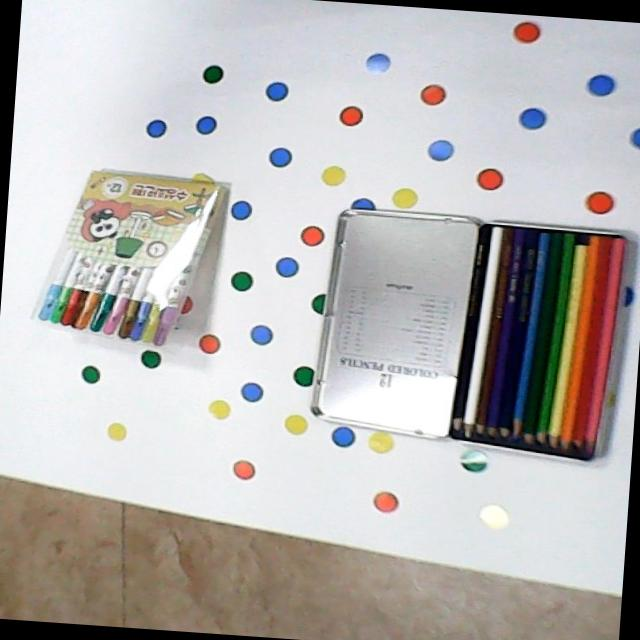color: (429, 218, 640, 473)
signpen: (20, 157, 238, 352)
